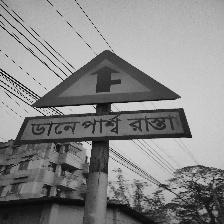Side-road-right: (16, 51, 189, 144)
